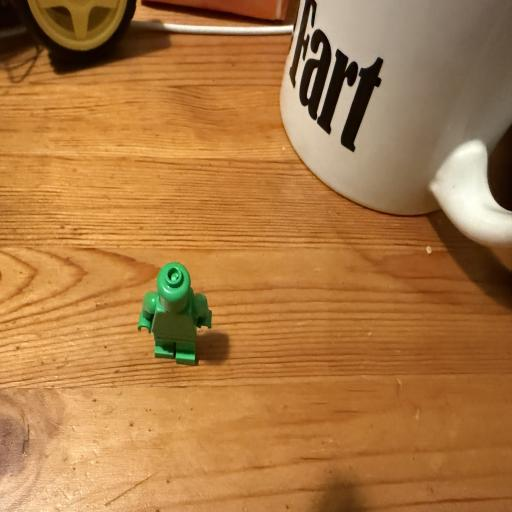Minifig: (138, 262, 212, 365)
